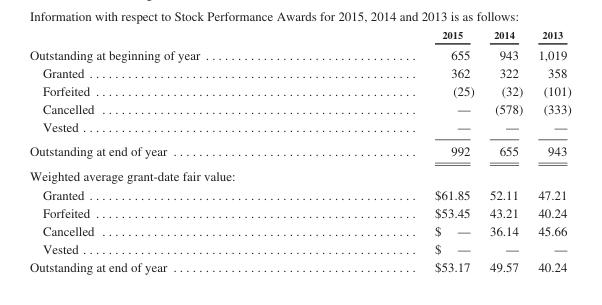table: (28, 28, 570, 273)
table column: (28, 28, 316, 273), (316, 28, 481, 273), (481, 28, 529, 273), (529, 28, 570, 273)
table column header: (28, 28, 570, 44)
table projected row header: (28, 163, 570, 185)
table row: (28, 138, 570, 163), (28, 163, 570, 185), (28, 117, 570, 138), (28, 44, 570, 63), (28, 63, 570, 81), (28, 81, 570, 99), (28, 99, 570, 117), (28, 185, 570, 203), (28, 203, 570, 221), (28, 221, 570, 239), (28, 239, 570, 257), (28, 28, 570, 44), (28, 257, 570, 273)
